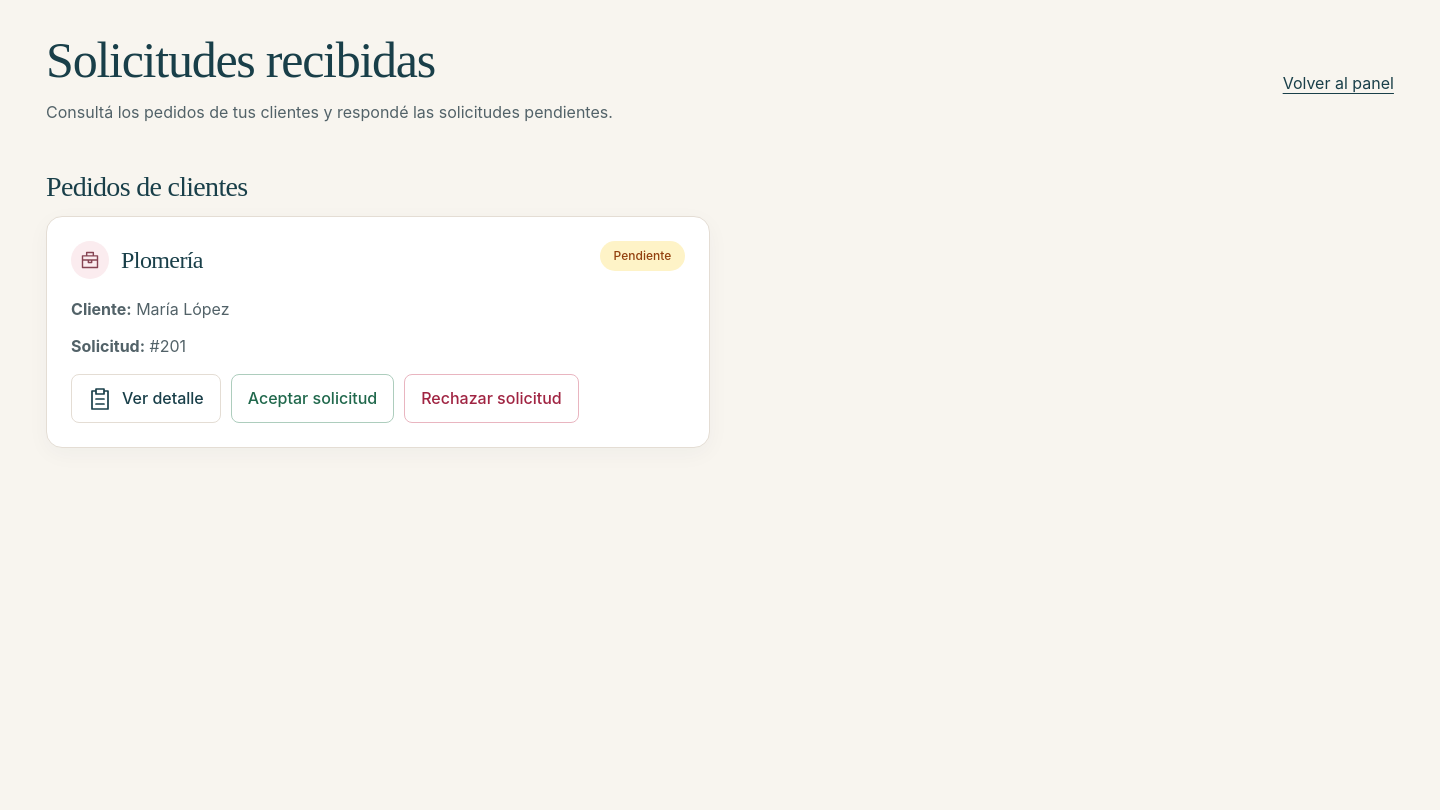
Test: F-13 - Pantalla de solicitudes del prestador › permite cerrar el detalle
Click the button "Ver detalle": (146, 399) top-left (71, 374), bottom-right (221, 423)
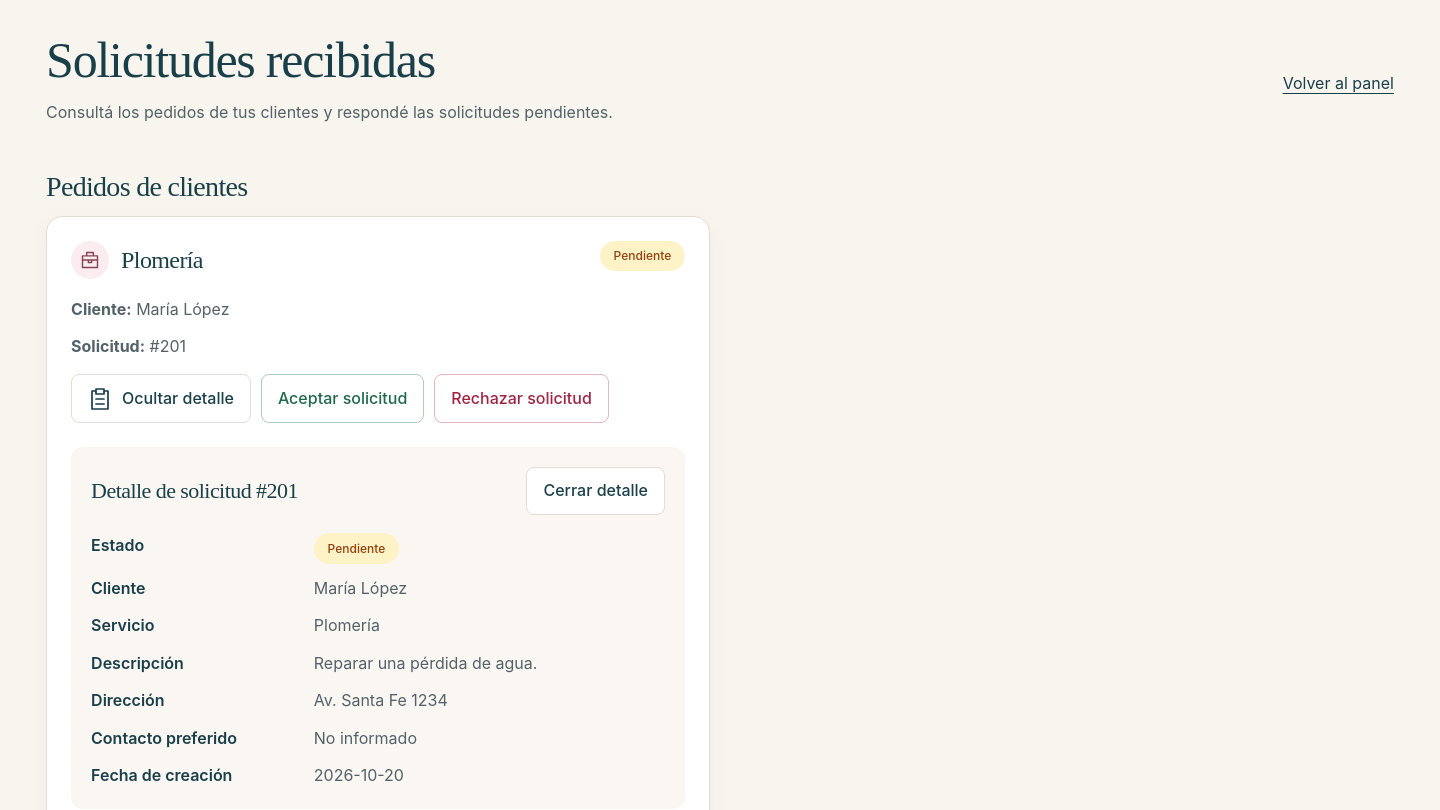
Click the button "Cerrar detalle": (596, 491) top-left (526, 467), bottom-right (665, 515)
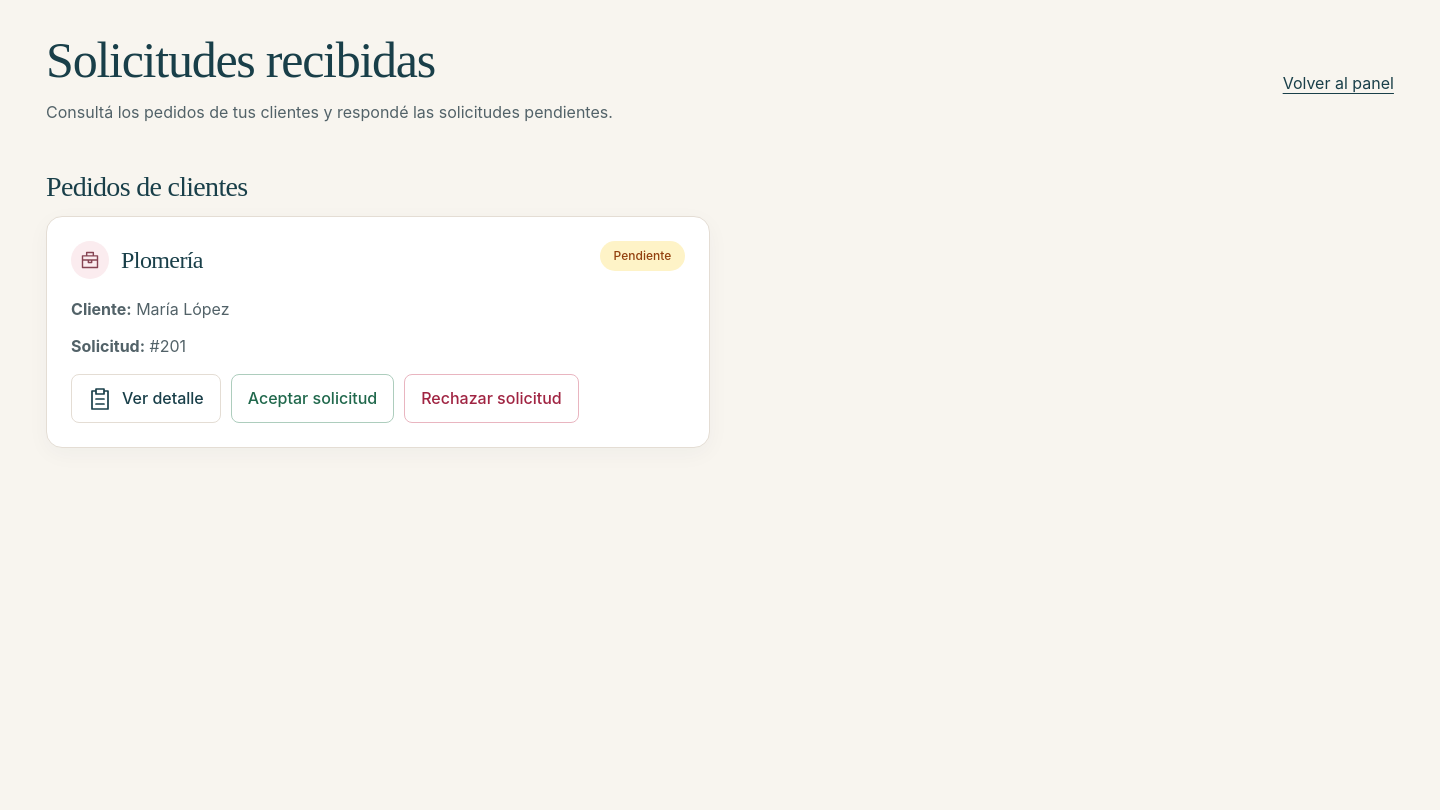
Result: the text "Reparar una pérdida de agua." is gone
